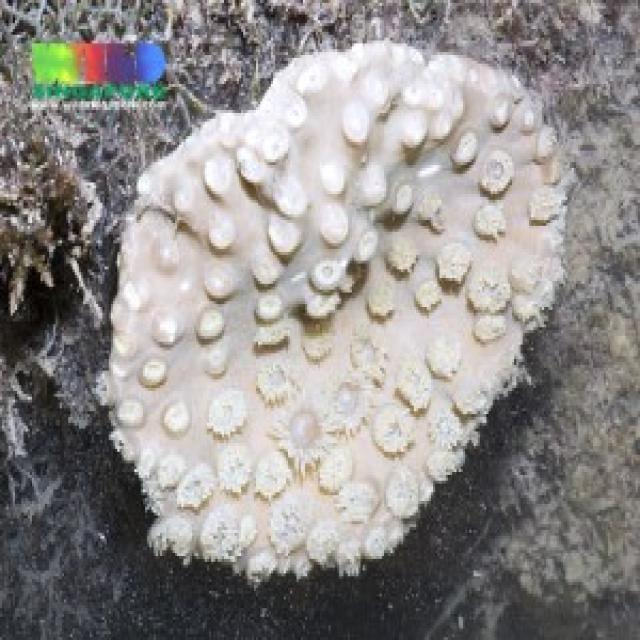Bleached: (112, 42, 566, 577)
